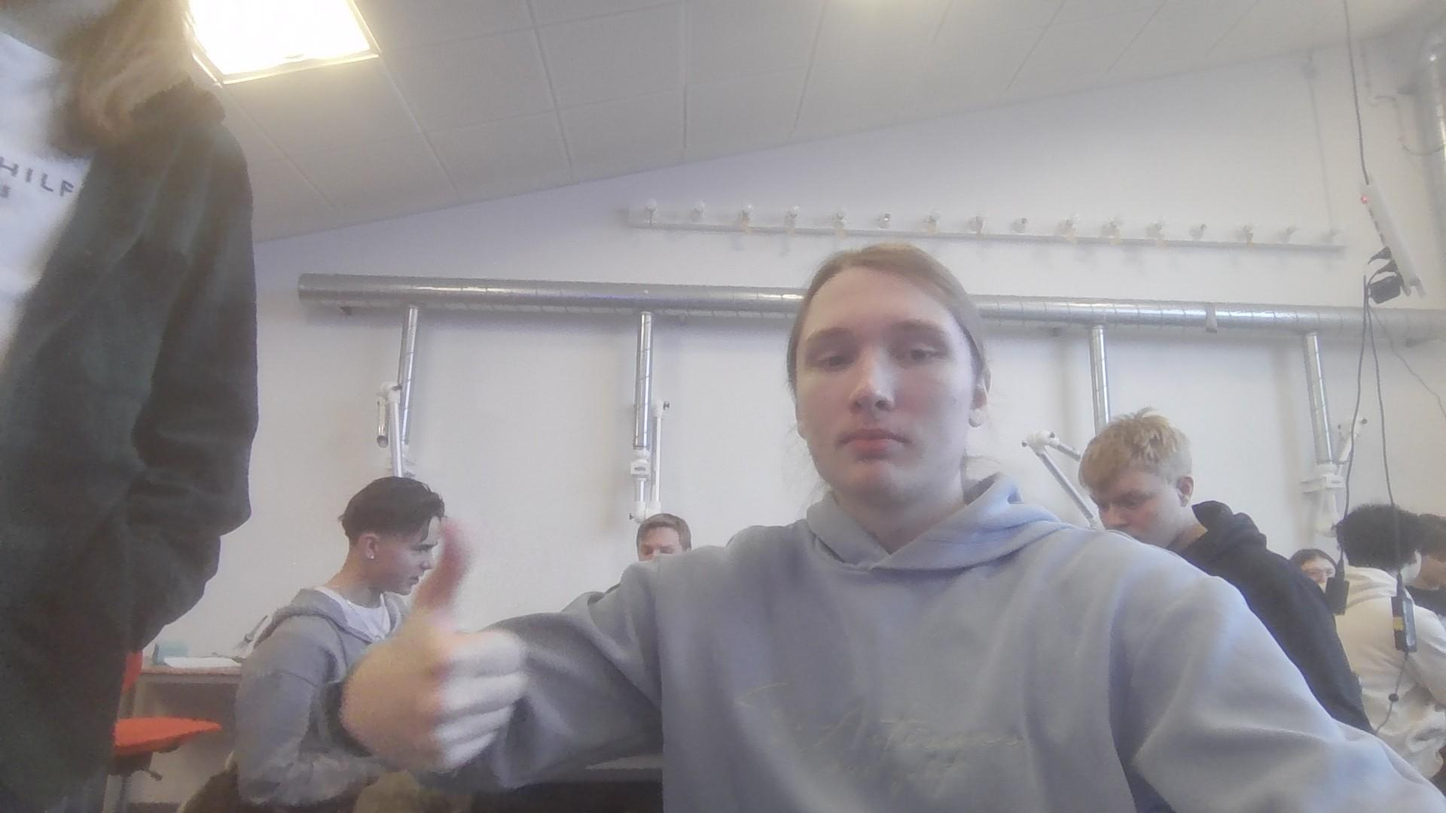thumbs up: (335, 507, 537, 783)
